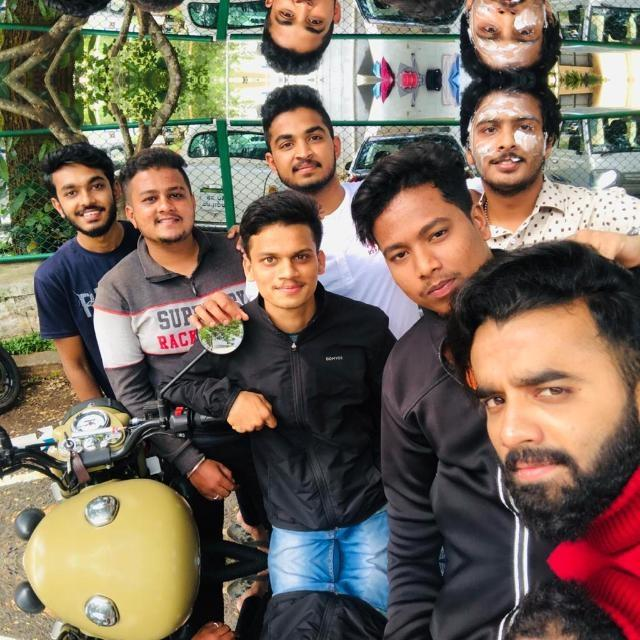person: (202, 181, 364, 507), (461, 246, 637, 528), (336, 127, 478, 441), (109, 134, 217, 386), (30, 146, 136, 357), (460, 78, 580, 250), (245, 93, 348, 223), (459, 0, 580, 79), (461, 592, 637, 640), (245, 0, 348, 65), (335, 0, 478, 31), (201, 613, 364, 640), (109, 0, 217, 24), (30, 0, 136, 12)
